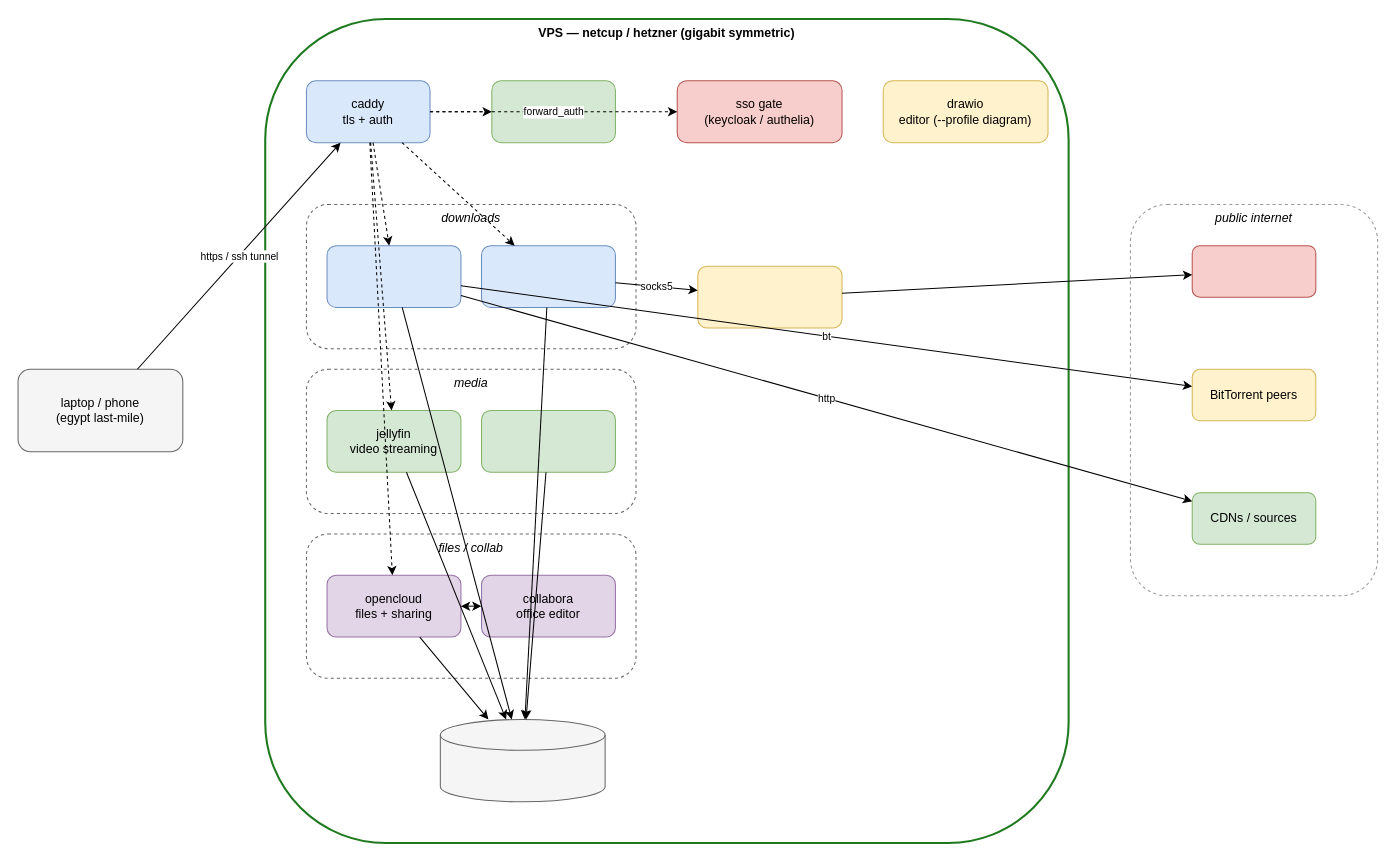
This 1396x861 diagram has some shape labels left out. Here are the shapes that lost their labels. From the top down, the box of each, then its label:
(491, 80, 615, 143): homepage dashboard
(326, 245, 461, 307): aria2-pro http + bittorrent
(480, 245, 615, 307): metube yt-dlp ui
(1191, 245, 1316, 297): YouTube
(697, 265, 842, 328): warp socks5 (yt bypass)
(480, 409, 615, 472): navidrome subsonic music
(439, 718, 605, 802): shared volume downloads + media
